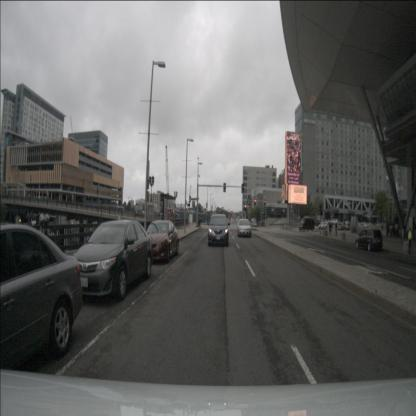human-pedestrian-adult: (408, 228, 413, 255), (394, 221, 398, 236), (386, 222, 390, 236), (328, 222, 332, 235), (335, 221, 338, 236), (381, 220, 384, 235), (199, 215, 202, 228), (386, 221, 388, 235), (344, 220, 346, 230), (348, 221, 350, 231)
vehicle-car: (0, 221, 83, 370), (70, 220, 153, 302), (144, 220, 179, 263), (208, 213, 229, 247), (355, 229, 383, 252), (237, 218, 252, 238), (298, 216, 315, 231), (318, 221, 328, 230), (328, 218, 338, 226)
